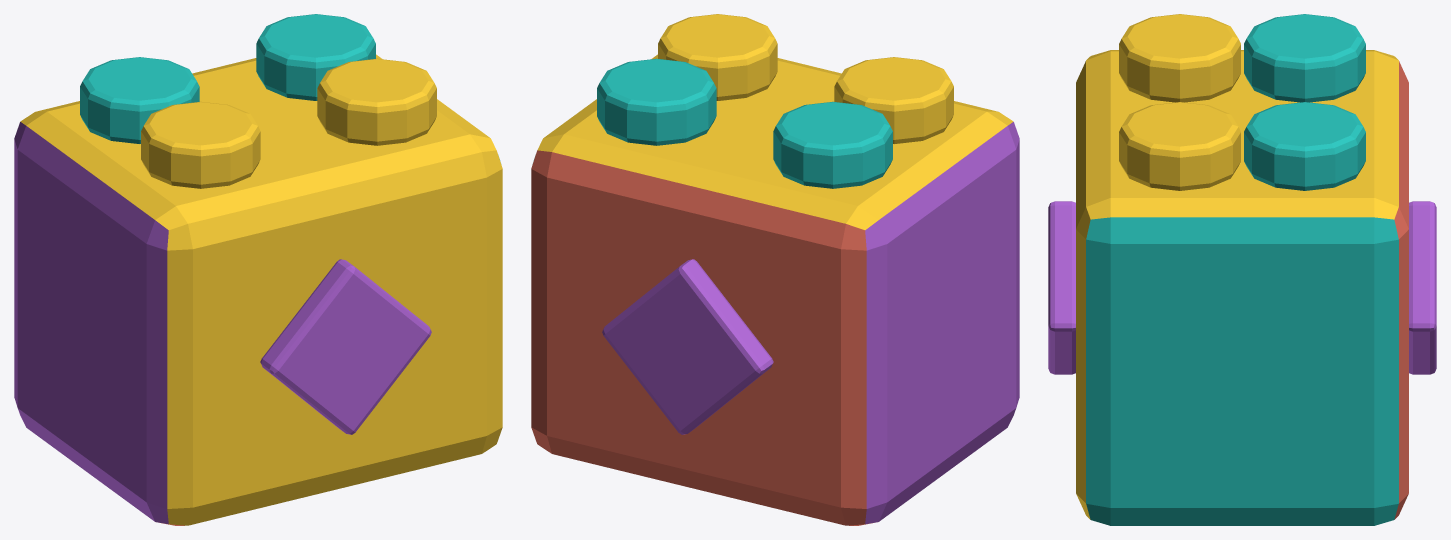
File: block.glb
The picture shows the model from 3 angles, left to right: view 1: azimuth 30°, elevation 25°; view 2: azimuth 150°, elevation 25°; view 3: azimuth 270°, elevation 25°; orthographic projection. The views are drawn at different scales.
Parts seen in each view (by area): view 1: block_body, block_front_badge, block_stud_L_F, block_stud_R_F, block_stud_R_B, block_stud_L_B; view 2: block_body, block_back_badge, block_stud_L_B, block_stud_R_B, block_stud_R_F, block_stud_L_F; view 3: block_body, block_stud_R_B, block_stud_R_F, block_stud_L_B, block_stud_L_F, block_back_badge, block_front_badge.
Part boxes in pixels (box(x1,y1,x2,y2)): block_body: box(14, 54, 502, 525); block_front_badge: box(260, 259, 431, 434); block_stud_L_F: box(141, 101, 260, 188); block_stud_R_F: box(317, 58, 436, 145); block_stud_R_B: box(256, 14, 375, 100); block_stud_L_B: box(80, 57, 199, 143); block_body: box(531, 54, 1019, 525); block_back_badge: box(602, 259, 773, 434); block_stud_L_B: box(773, 101, 892, 188); block_stud_R_B: box(597, 58, 716, 145); block_stud_R_F: box(658, 14, 777, 100); block_stud_L_F: box(834, 57, 953, 143); block_body: box(1076, 50, 1408, 525); block_stud_R_B: box(1244, 102, 1365, 190); block_stud_R_F: box(1119, 102, 1240, 190); block_stud_L_B: box(1244, 14, 1365, 102); block_stud_L_F: box(1119, 14, 1240, 102); block_back_badge: box(1409, 201, 1436, 374); block_front_badge: box(1048, 201, 1075, 374).
Size of the model in its own units: 0.3 by 0.295 by 0.28.
